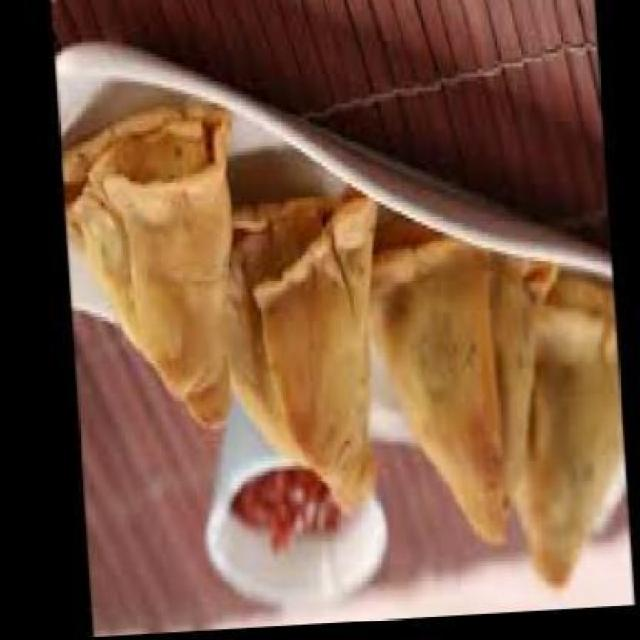samosa: (362, 218, 566, 552), (57, 103, 243, 434), (214, 188, 388, 522), (494, 282, 623, 598)
